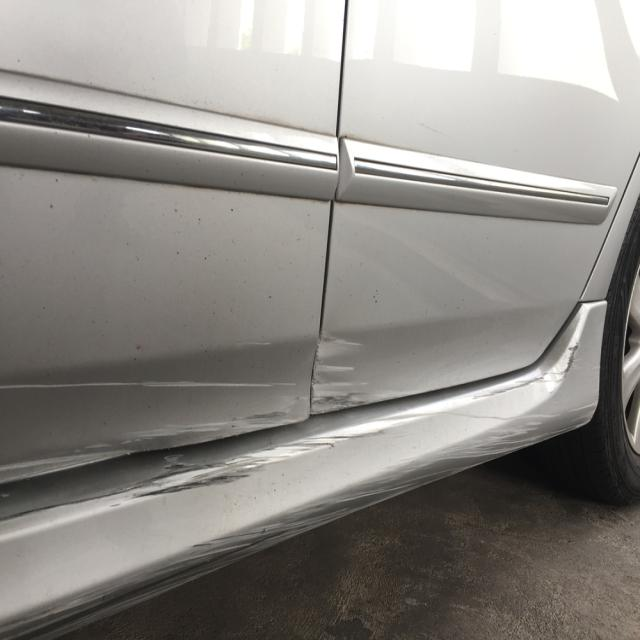scratch: (0, 409, 592, 640), (114, 369, 548, 505), (0, 379, 303, 484), (308, 331, 375, 414)
